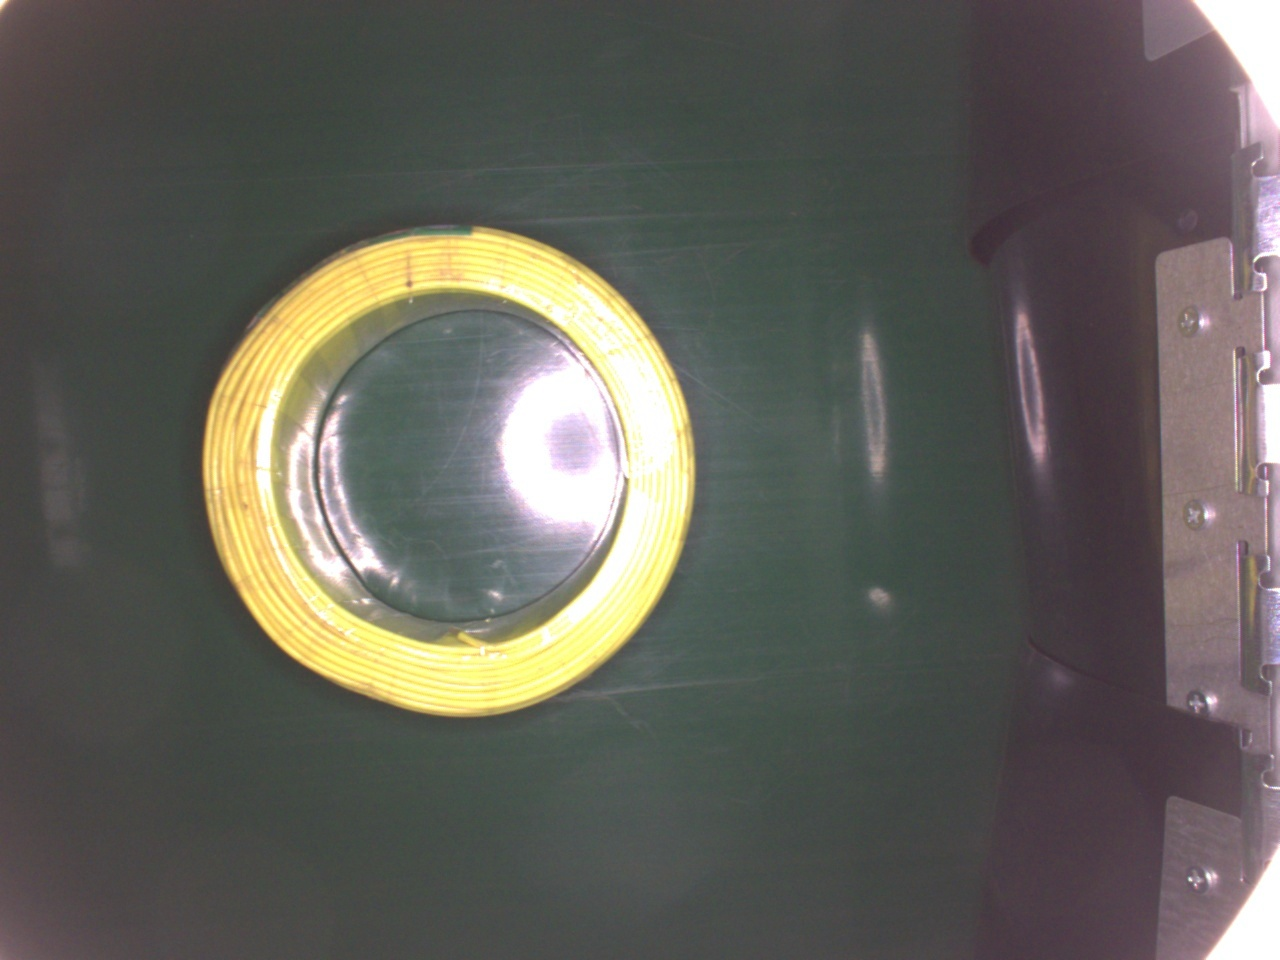yellow: (200, 218, 700, 720)
